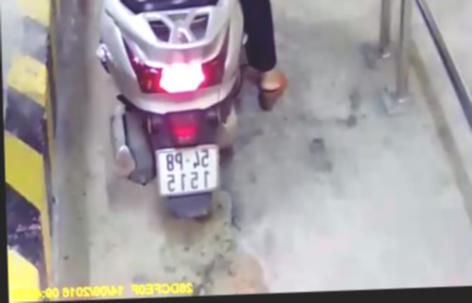License_Plate: (151, 140, 224, 205)
